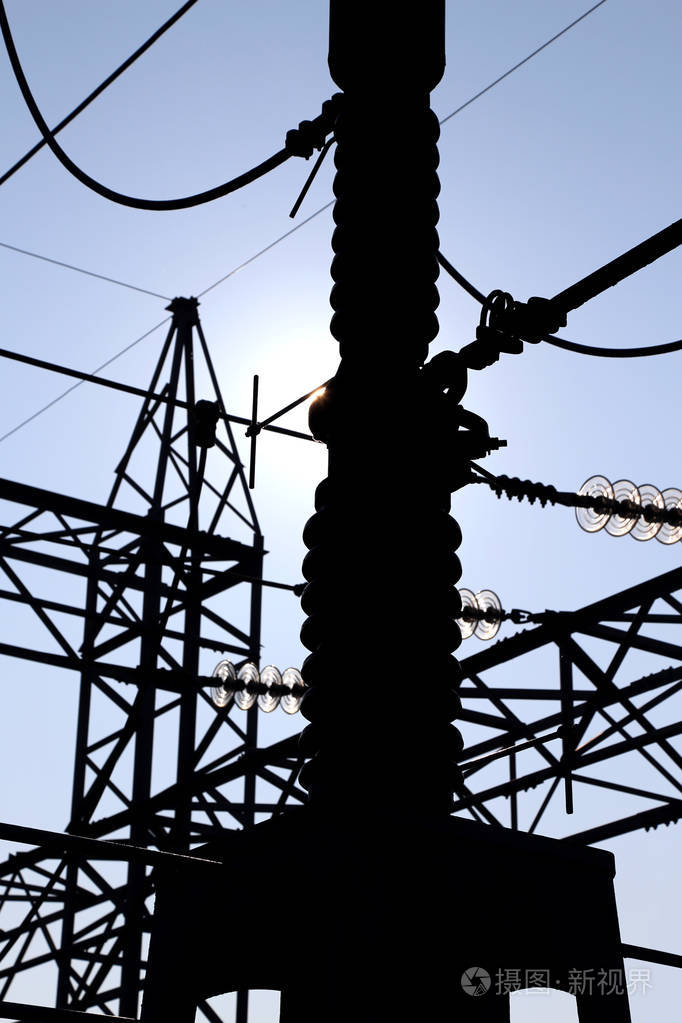insulator: (574, 472, 682, 544), (204, 657, 303, 722), (459, 585, 505, 646)
